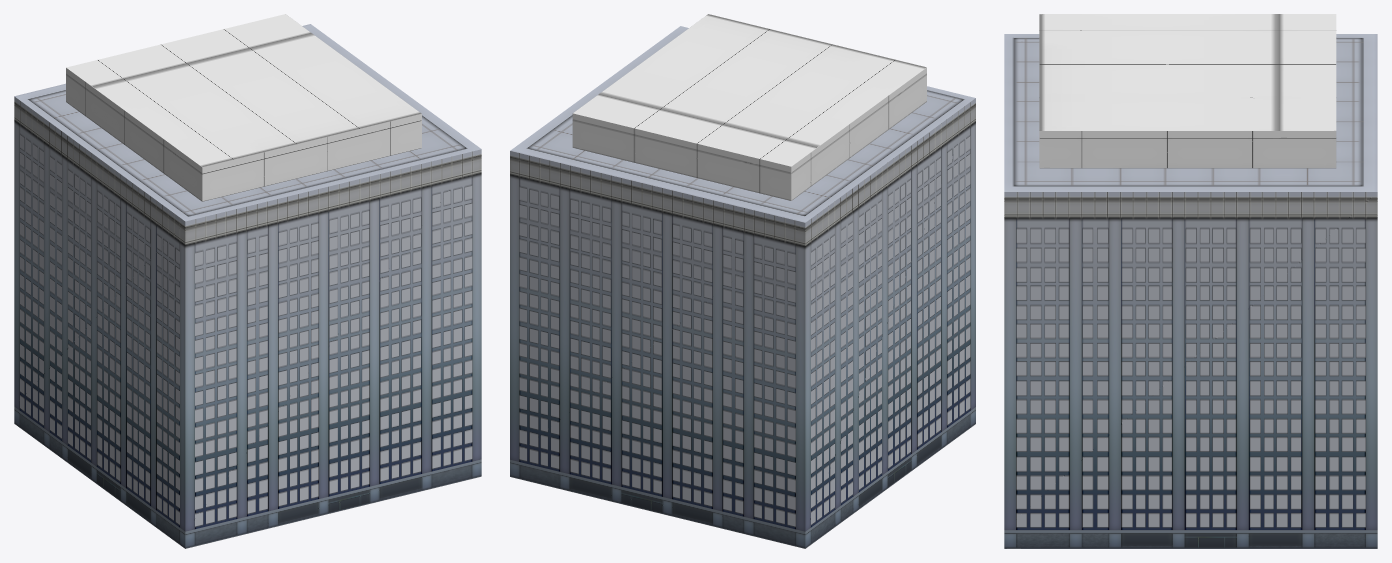
The model's file is buil_04.fbx.
The picture shows the model from 3 angles, left to right: view 1: azimuth 30°, elevation 25°; view 2: azimuth 150°, elevation 25°; view 3: azimuth 270°, elevation 25°; orthographic projection. The views are drawn at different scales.
Parts seen in each view (by area): view 1: buil_04; view 2: buil_04; view 3: buil_04.
Boxes of the visible parts, bbox=[...] form: buil_04: bbox=[14, 14, 481, 548]; buil_04: bbox=[510, 14, 975, 548]; buil_04: bbox=[1004, 14, 1377, 548].
Bounding box in the file's own units: 54 × 63 × 54.
